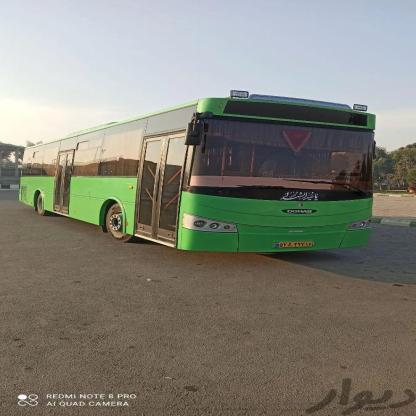Bus: (23, 82, 379, 270)
